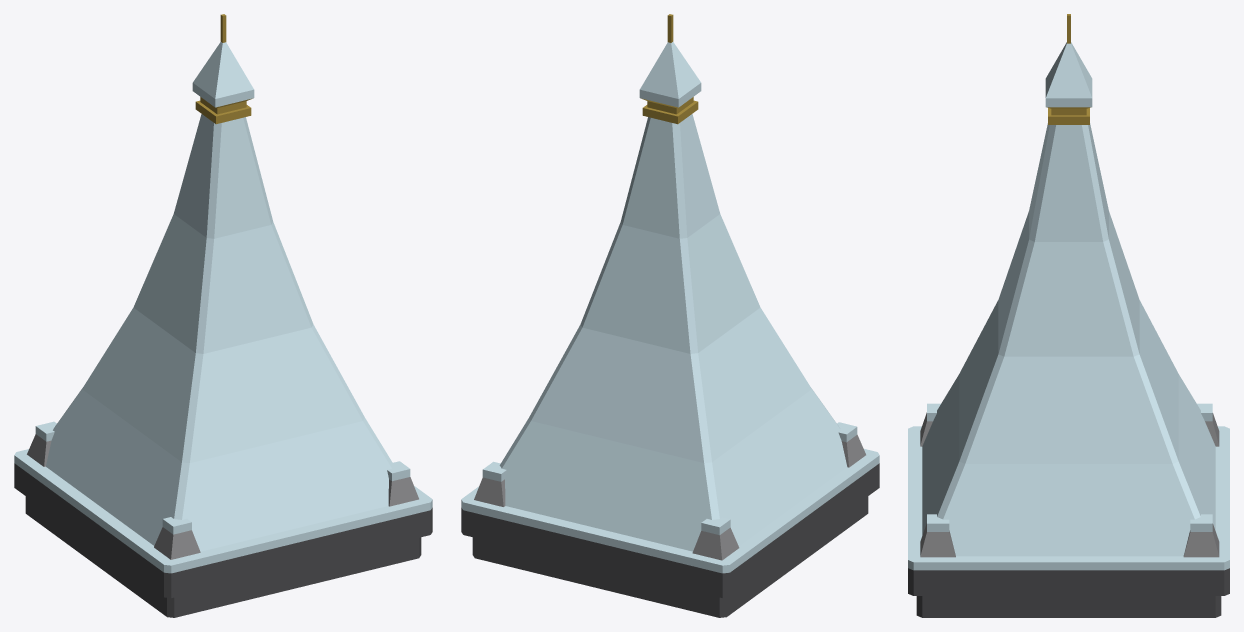
The model's file is SM_Bld_Castle_Roof_Spire_01_Snow.gltf.
3 renders of one model, left to right at view 1: azimuth 30°, elevation 25°; view 2: azimuth 150°, elevation 25°; view 3: azimuth 270°, elevation 25°, orthographic. The views are drawn at different scales.
Parts seen in each view (by area): view 1: SM_Bld_Castle_Roof_Spire_01_Snow; view 2: SM_Bld_Castle_Roof_Spire_01_Snow; view 3: SM_Bld_Castle_Roof_Spire_01_Snow.
Boxes of the visible parts, x1,y1,x2,y2 form: SM_Bld_Castle_Roof_Spire_01_Snow: (14, 14, 432, 617); SM_Bld_Castle_Roof_Spire_01_Snow: (461, 14, 879, 617); SM_Bld_Castle_Roof_Spire_01_Snow: (908, 14, 1229, 617).
Size of the model in its own units: 2.96 by 5.47 by 2.96.
Materials: 1 (1 with a texture image).
